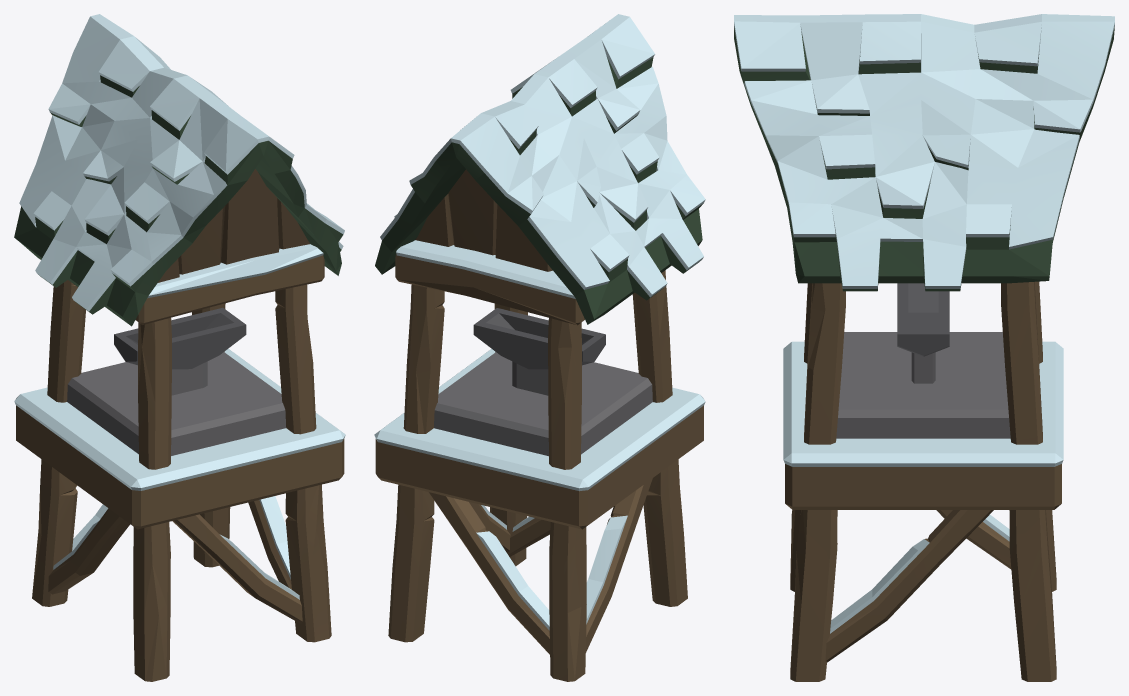
Rendered from Torre01.glb.
The picture shows the model from 3 angles, left to right: view 1: azimuth 30°, elevation 25°; view 2: azimuth 150°, elevation 25°; view 3: azimuth 270°, elevation 25°; orthographic projection. The views are drawn at different scales.
Parts seen in each view (by area): view 1: SM_Bld_Tower_01_Snow; view 2: SM_Bld_Tower_01_Snow; view 3: SM_Bld_Tower_01_Snow.
Part boxes in pixels (x1,y1,x2,y2): SM_Bld_Tower_01_Snow: [14, 14, 345, 681]; SM_Bld_Tower_01_Snow: [374, 14, 705, 681]; SM_Bld_Tower_01_Snow: [734, 14, 1114, 681].
Bounding box in the file's own units: 2.82 × 5.69 × 3.21.
Materials: 1 (1 with a texture image).
